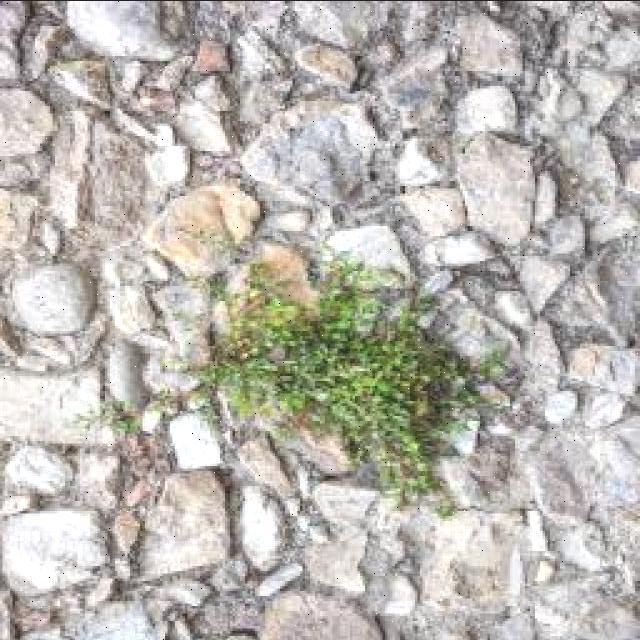crack: (100, 428, 181, 624), (200, 377, 275, 489), (524, 139, 575, 225), (17, 8, 72, 85), (214, 453, 243, 588), (71, 114, 101, 237), (513, 253, 571, 316)
dampens: (2, 250, 124, 444)
dampness: (332, 1, 550, 138), (211, 1, 376, 107), (164, 6, 249, 164), (144, 560, 292, 638)
vegetation: (201, 244, 506, 515), (238, 105, 380, 207), (143, 184, 262, 279), (0, 505, 107, 597), (553, 125, 635, 213), (63, 1, 178, 61), (99, 250, 168, 347), (239, 242, 324, 318), (319, 222, 416, 283), (148, 278, 216, 363), (222, 360, 301, 424), (235, 483, 290, 573), (0, 85, 59, 162), (393, 185, 470, 243), (237, 130, 302, 197), (555, 7, 623, 68), (42, 57, 112, 114), (137, 352, 205, 404), (283, 2, 356, 50), (422, 233, 502, 273), (0, 188, 45, 254), (391, 136, 447, 189), (230, 28, 282, 85), (252, 208, 319, 251), (540, 213, 589, 264)
